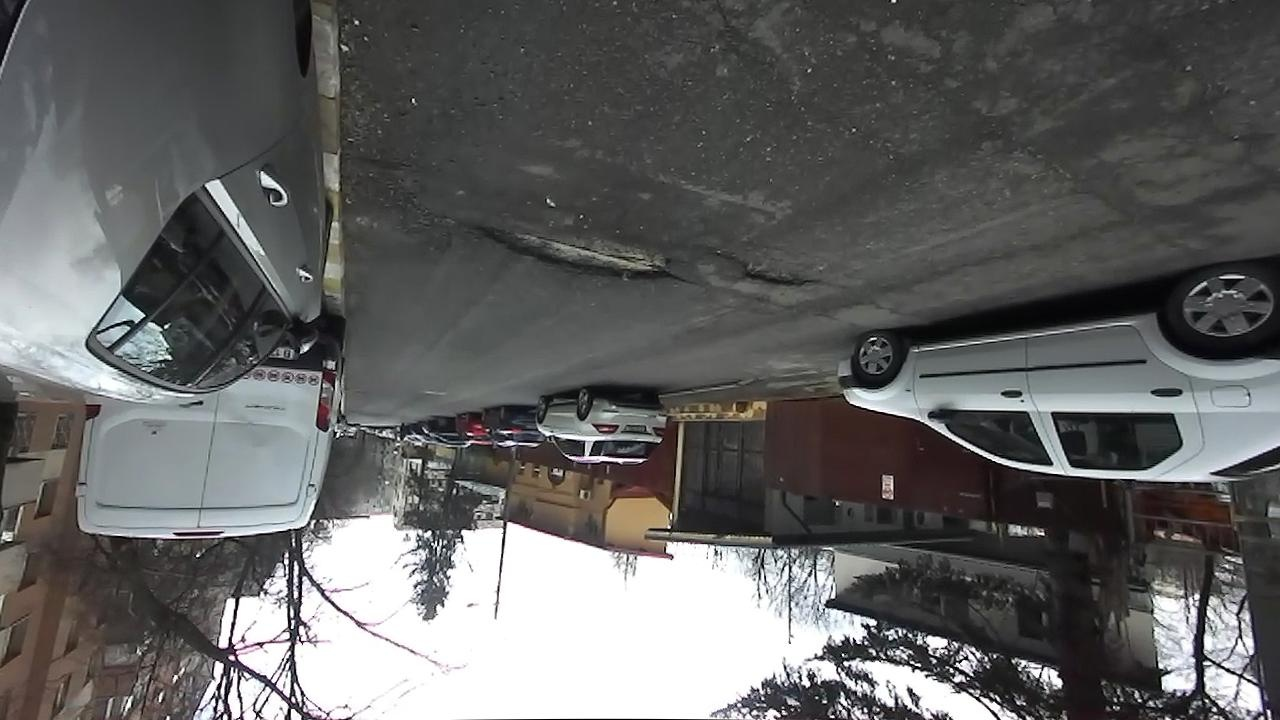pothole: (470, 217, 695, 288), (711, 249, 824, 290)
